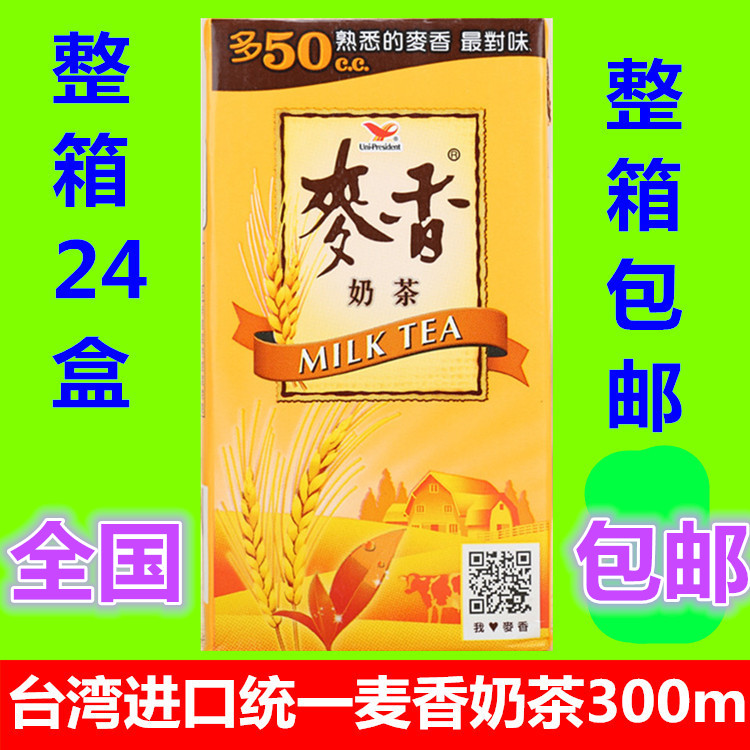milk tea: (199, 17, 553, 649)
